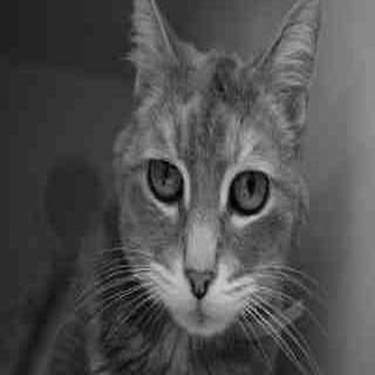cat: (36, 4, 319, 371)
